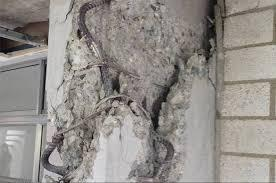exposed_rebar: (78, 0, 110, 59), (42, 133, 67, 176)
spalling: (42, 0, 213, 183)
